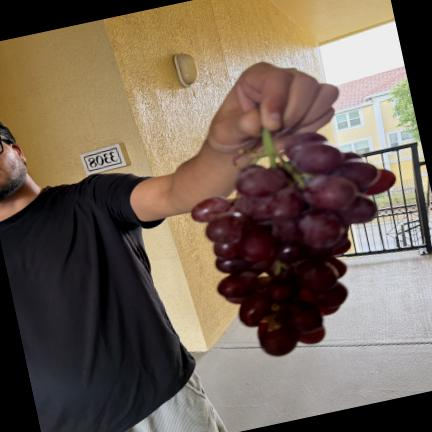grape_cluster: (192, 130, 396, 356)
